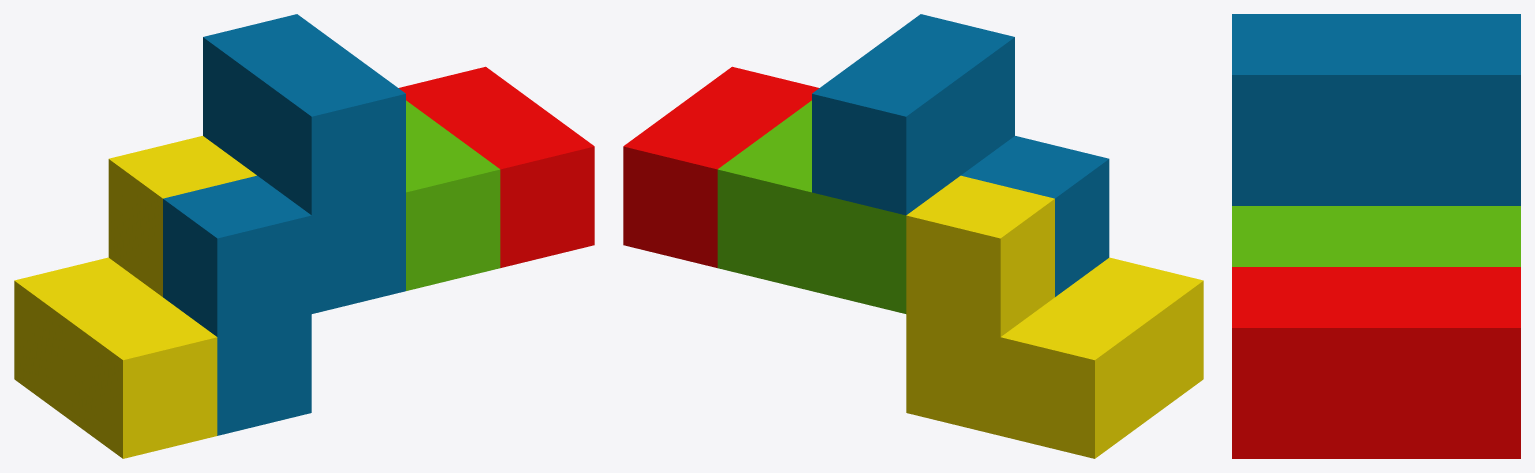
The picture shows the model from 3 angles, left to right: view 1: azimuth 30°, elevation 25°; view 2: azimuth 150°, elevation 25°; view 3: azimuth 270°, elevation 25°; orthographic projection. The views are drawn at different scales.
Visible parts, largest first — view 1: mergedBlocks(Clone); view 2: mergedBlocks(Clone); view 3: mergedBlocks(Clone).
Part boxes in pixels (x1,y1,x2,y2): mergedBlocks(Clone): (14, 14, 594, 458); mergedBlocks(Clone): (623, 14, 1203, 458); mergedBlocks(Clone): (1232, 14, 1520, 458).
Size of the model in its own units: 5 by 3 by 2.
4 materials, 4 textured.
